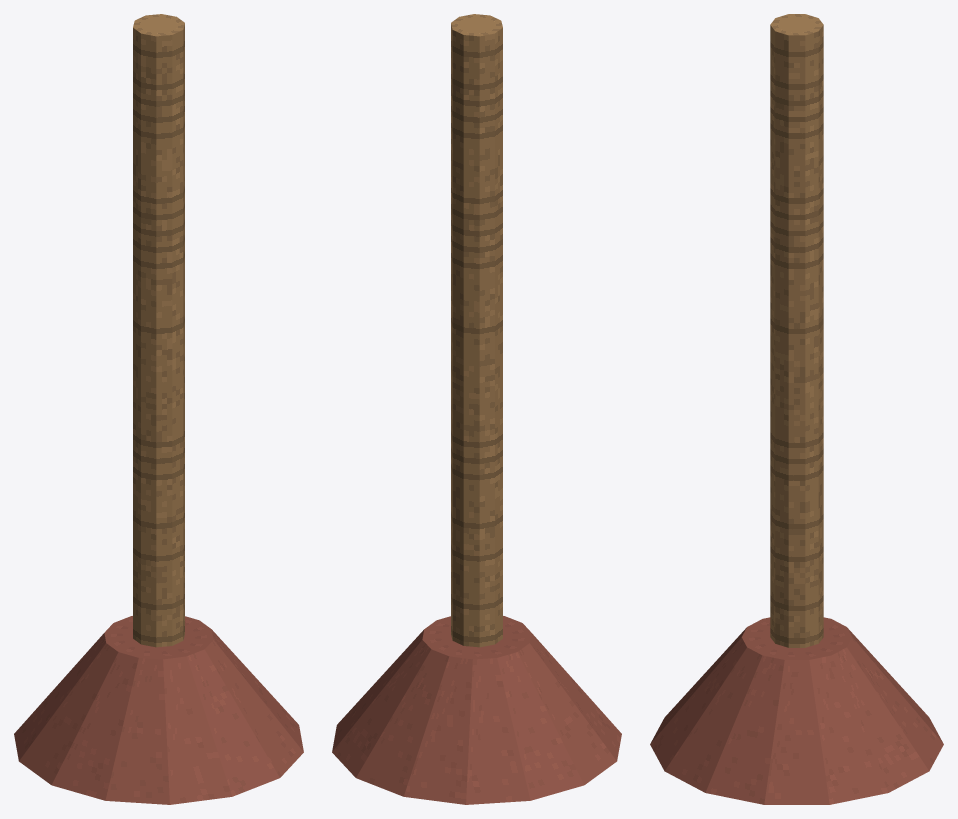
File: plunger_toilet.glb
The picture shows the model from 3 angles, left to right: view 1: azimuth 30°, elevation 25°; view 2: azimuth 150°, elevation 25°; view 3: azimuth 270°, elevation 25°; orthographic projection.
Parts seen in each view (by area): view 1: block_rubber bell, block_wooden shaft; view 2: block_rubber bell, block_wooden shaft; view 3: block_rubber bell, block_wooden shaft.
Boxes of the visible parts, <box> form: block_rubber bell: <box>14,616,303,804</box>; block_wooden shaft: <box>133,14,184,647</box>; block_rubber bell: <box>332,616,621,804</box>; block_wooden shaft: <box>451,14,502,647</box>; block_rubber bell: <box>650,617,943,804</box>; block_wooden shaft: <box>770,14,823,647</box>.
Size of the model in its own units: 0.1501 by 0.416 by 0.154.
Materials: 1 (1 with a texture image).
